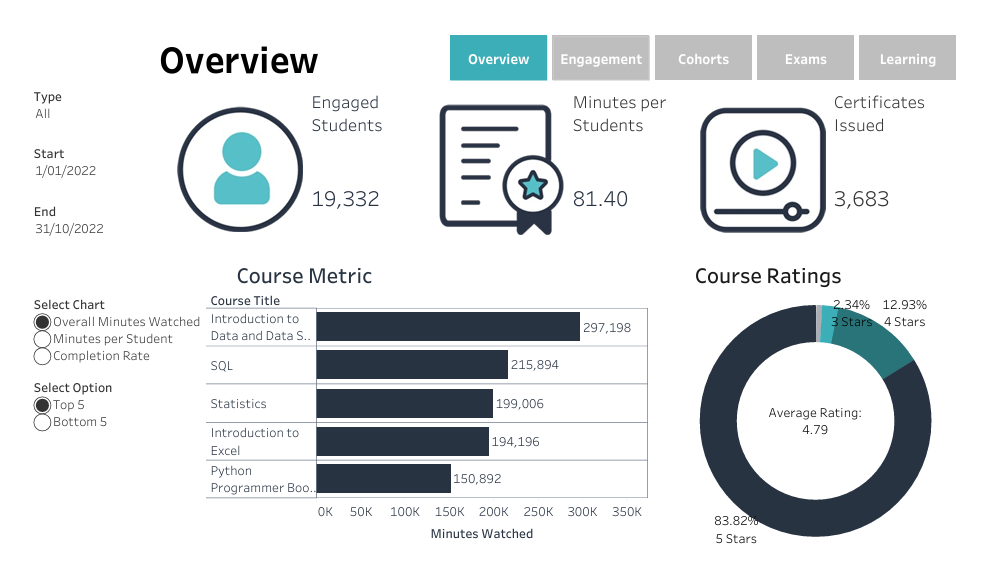

The dashboard page shown, as its layout file describes it:
{"tool":"tableau","page":{"name":"Overview","canvas":[1366,768],"ordinal":8},"visuals":[{"type":"image","param":"C:/Users/Lenovo/Downloads/images/logo.png","box":[8,8,150,73]},{"type":"text","box":[158,8,456,73]},{"type":"dashboard-object","box":[614,8,149,73]},{"type":"dashboard-object","box":[763,8,149,73]},{"type":"dashboard-object","box":[912,8,149,73]},{"type":"dashboard-object","box":[1061,8,149,73]},{"type":"dashboard-object","box":[1210,8,148,73]},{"type":"parameter","param":"[Parameters].[参数 2]","box":[8,81,209,84]},{"type":"image","param":"C:/Users/Lenovo/Downloads/images/engaged students.png","box":[217,81,191,252]},{"type":"worksheet","title":"KPI Students","mark":"Automatic","box":[408,81,190,252]},{"type":"image","param":"C:/Users/Lenovo/Downloads/images/certificates issued.png","box":[598,81,190,252]},{"type":"worksheet","title":"KPI Minutes","mark":"Automatic","box":[788,81,190,252]},{"type":"image","param":"C:/Users/Lenovo/Downloads/images/minutes watched.png","box":[978,81,190,252]},{"type":"worksheet","title":"KPI Certificates","mark":"Automatic","box":[1168,81,190,252]},{"type":"parameter","param":"[Parameters].[参数 1]","box":[8,165,209,84]},{"type":"parameter","param":"[Parameters].[Minimum Engaged Date (复制)_1603844424879804417]","box":[8,249,209,84]},{"type":"text","box":[8,333,795,51]},{"type":"text","box":[803,333,555,51]},{"type":"parameter","param":"[Parameters].[参数 4]","box":[8,384,251,121]},{"type":"worksheet","title":"Course Minutes","mark":"Automatic","rows":["course_title","Calculation_1603844424891609101"],"cols":["minutes_watched"],"box":[259,384,651,376]},{"type":"worksheet","title":"Course Minutes per Students","mark":"Automatic","rows":["course_title","Ranking Minutes Watched (复制)_1603844424900349968"],"cols":["minutes_per_student"],"box":[910,384,1,376]},{"type":"worksheet","title":"Course Completion Rate","mark":"Automatic","rows":["course_title","Ranking Minutes Watched per Students (复制)_160384442490189825"],"cols":["completion_rate"],"box":[911,384,1,376]},{"type":"worksheet","title":"Course Ratings","mark":"Pie","rows":["Calculation_1603844424906407957","Calculation_1603844424906407957"],"box":[941,384,417,376]},{"type":"parameter","param":"[Parameters].[参数 3]","box":[8,505,251,94]}]}

Visuals, with their boxes in screenshot pixels (x1, y1, x2, y2), scaled from the page's 1366x768 canvas onto the 994x576 screenshot:
image: [6,6,115,61]
text: [115,6,447,61]
dashboard-object: [447,6,555,61]
dashboard-object: [555,6,664,61]
dashboard-object: [664,6,772,61]
dashboard-object: [772,6,880,61]
dashboard-object: [880,6,988,61]
parameter: [6,61,158,124]
image: [158,61,297,250]
"KPI Students" worksheet: [297,61,435,250]
image: [435,61,573,250]
"KPI Minutes" worksheet: [573,61,712,250]
image: [712,61,850,250]
"KPI Certificates" worksheet: [850,61,988,250]
parameter: [6,124,158,187]
parameter: [6,187,158,250]
text: [6,250,584,288]
text: [584,250,988,288]
parameter: [6,288,188,379]
"Course Minutes" worksheet: [188,288,662,570]
"Course Minutes per Students" worksheet: [662,288,663,570]
"Course Completion Rate" worksheet: [663,288,664,570]
"Course Ratings" worksheet (Pie marks): [685,288,988,570]
parameter: [6,379,188,449]
